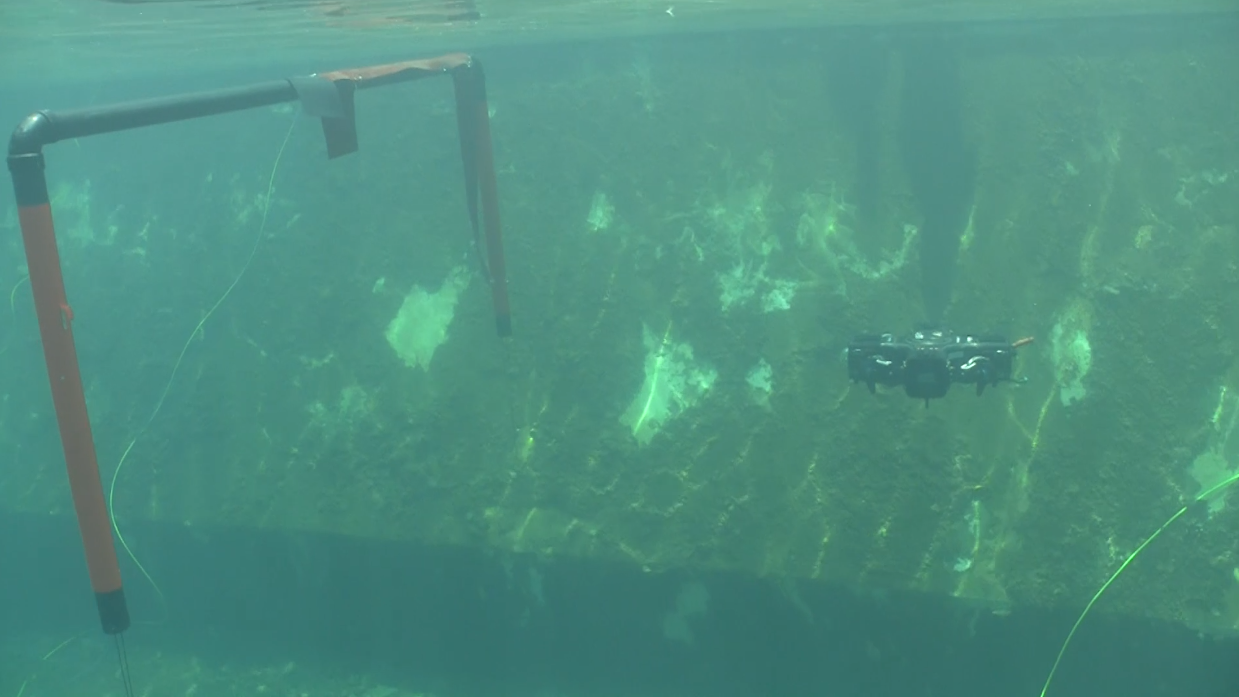gate: (9, 43, 543, 642)
